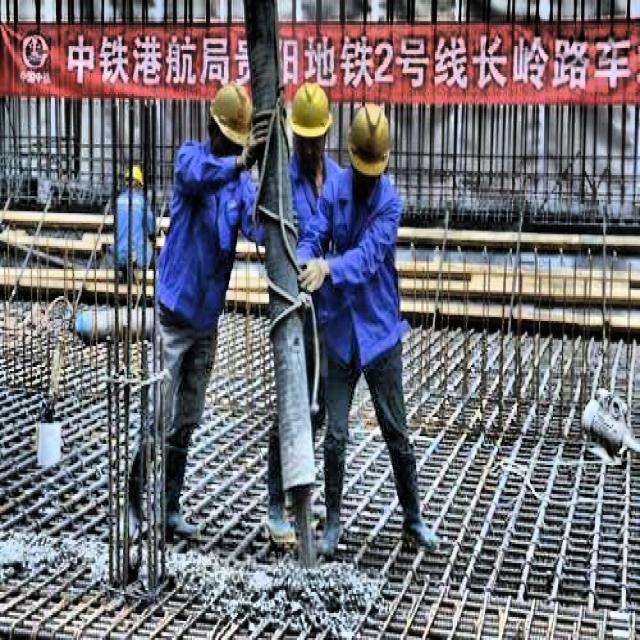helmet: (342, 100, 394, 188), (206, 77, 256, 161), (286, 73, 334, 160), (124, 157, 149, 200)
